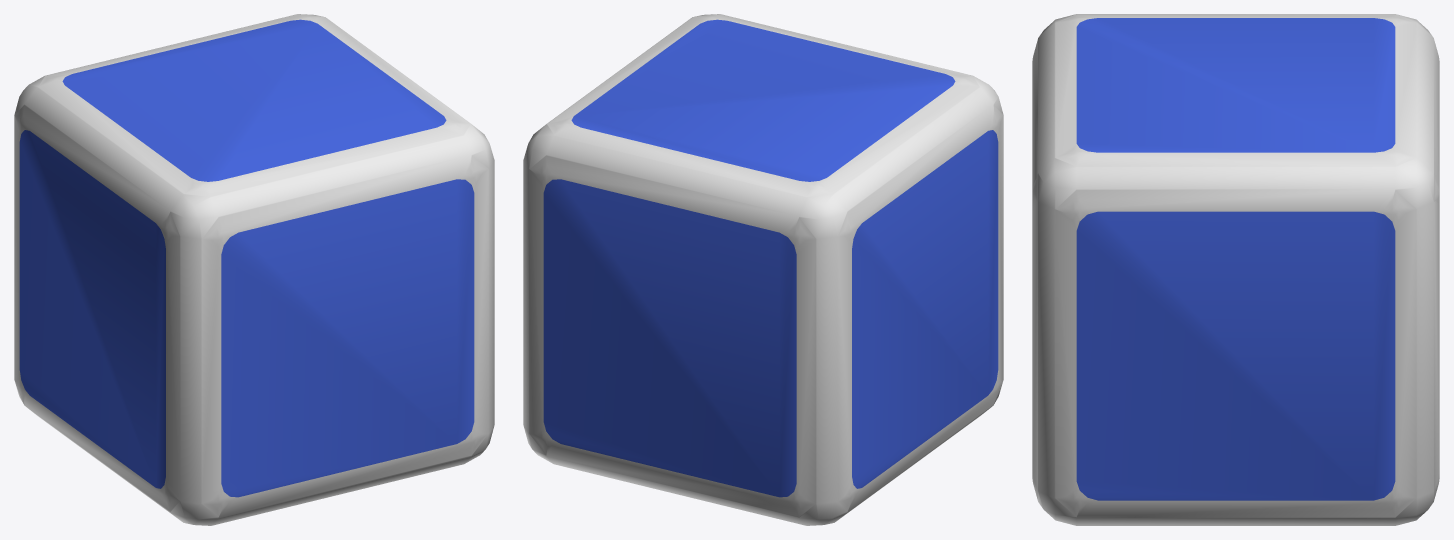
Rendered from BoxDeneme.fbx.
The picture shows the model from 3 angles, left to right: view 1: azimuth 30°, elevation 25°; view 2: azimuth 150°, elevation 25°; view 3: azimuth 270°, elevation 25°; orthographic projection. The views are drawn at different scales.
Parts seen in each view (by area): view 1: Cube.004; view 2: Cube.004; view 3: Cube.004.
Part boxes in pixels (left/top/right/bottom): Cube.004: left=14, top=14, right=494, bottom=525; Cube.004: left=523, top=14, right=1003, bottom=525; Cube.004: left=1032, top=14, right=1439, bottom=525.
Bounding box in the file's own units: 200 × 200 × 200.
